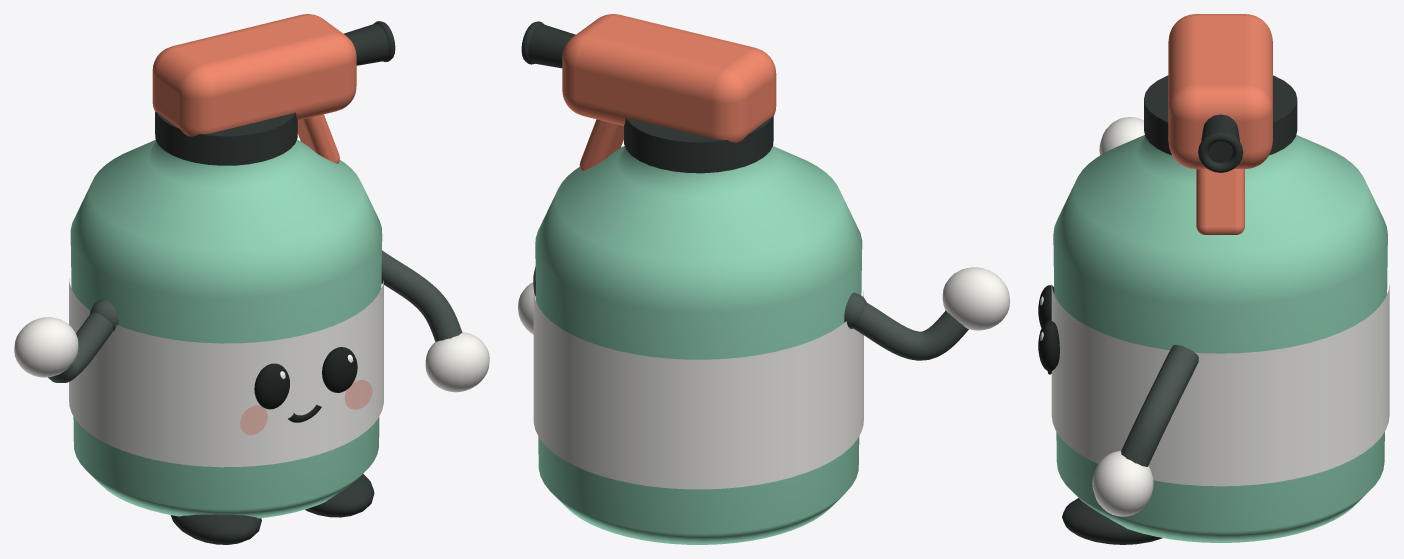
File: spray.glb
3 renders of one model, left to right at view 1: azimuth 30°, elevation 25°; view 2: azimuth 150°, elevation 25°; view 3: azimuth 270°, elevation 25°, orthographic. The views are drawn at different scales.
Parts seen in each view (by area): view 1: spray, arm (×2), face; view 2: spray, arm (×2); view 3: spray, arm (×2), face.
Part boxes in pixels (box(x1,y1,x2,y2)): spray: box(69, 14, 395, 544); arm (×2): box(14, 250, 489, 392); face: box(240, 347, 372, 435); spray: box(521, 14, 863, 544); arm (×2): box(518, 266, 1009, 360); spray: box(1051, 14, 1389, 544); arm (×2): box(1092, 117, 1198, 516); face: box(1038, 285, 1059, 374).
Size of the model in its own units: 1.66 by 1.54 by 1.01.
